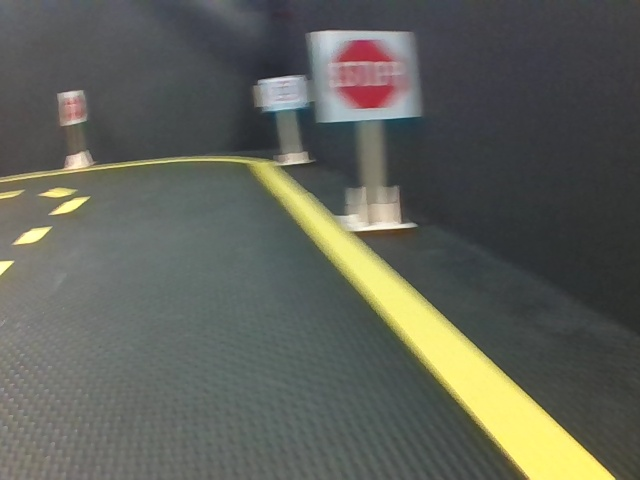30: (262, 78, 306, 107)
stop: (317, 32, 418, 118), (62, 92, 86, 121)
